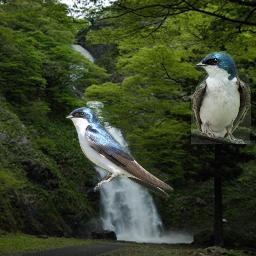Swallow: (65, 107, 174, 198), (191, 51, 251, 144)
